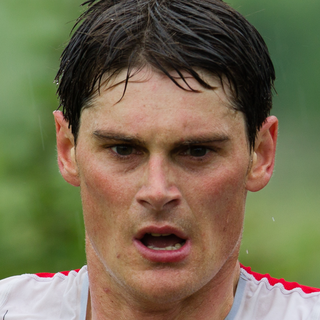eye: (168, 139, 221, 163), (100, 138, 148, 163)
